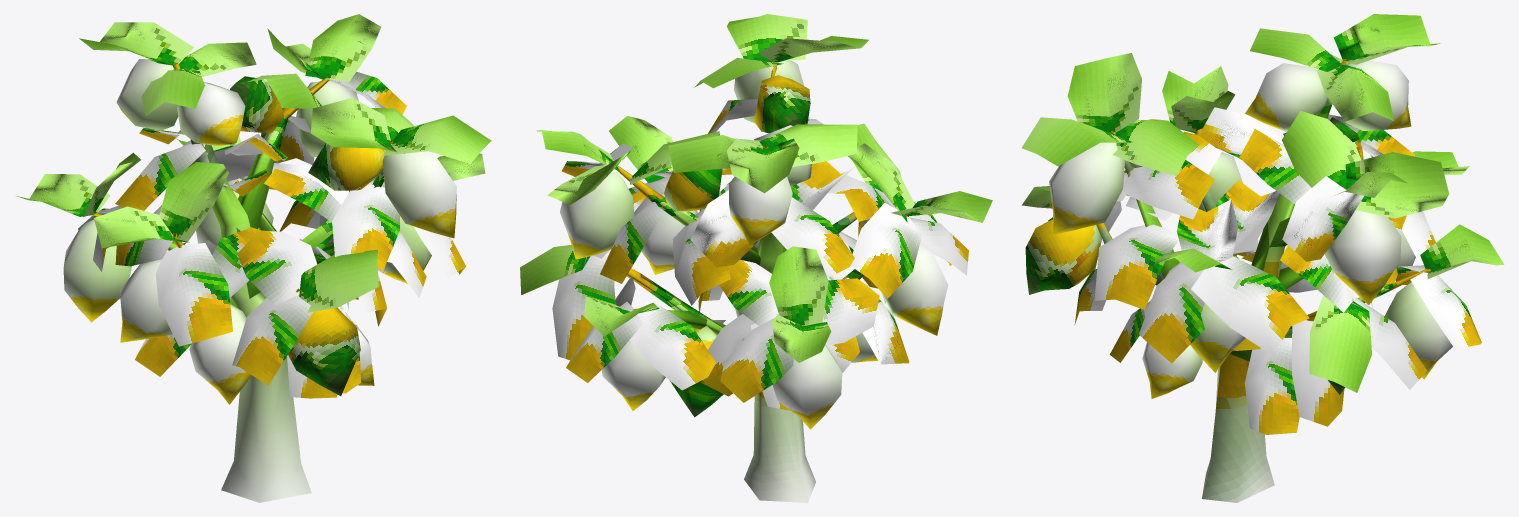
The model's file is botany_000026_02.FBX.
3 renders of one model, left to right at view 1: azimuth 30°, elevation 25°; view 2: azimuth 150°, elevation 25°; view 3: azimuth 270°, elevation 25°, orthographic. The views are drawn at different scales.
Visible parts, largest first — view 1: botany_000026_02; view 2: botany_000026_02; view 3: botany_000026_02.
Boxes of the visible parts, x1=… form: botany_000026_02: x1=16, y1=14, x2=491, y2=502; botany_000026_02: x1=520, y1=14, x2=992, y2=502; botany_000026_02: x1=1022, y1=14, x2=1504, y2=502.
Bounding box in the file's own units: 113 × 112 × 115.
